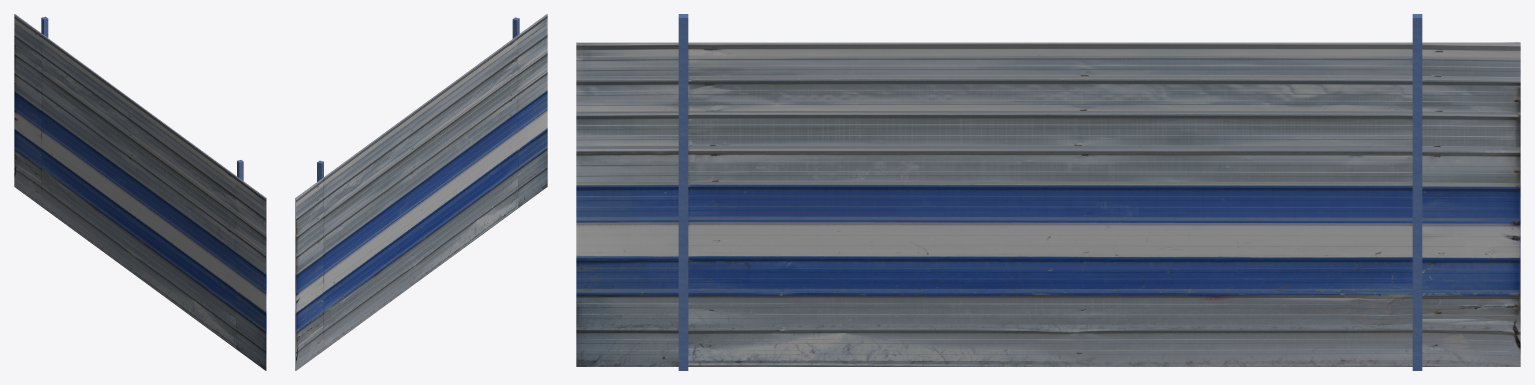
File: MetallFence02.FBX
The picture shows the model from 3 angles, left to right: view 1: azimuth 30°, elevation 25°; view 2: azimuth 150°, elevation 25°; view 3: azimuth 270°, elevation 25°; orthographic projection. The views are drawn at different scales.
Visible parts, largest first — view 1: MetallFence02, MetalFenceMetal01a; view 2: MetallFence02, MetalFenceMetal01a; view 3: MetallFence02, MetalFenceMetal01a.
Part boxes in pixels (x1,y1,x2,y2): MetallFence02: (14, 14, 266, 370); MetalFenceMetal01a: (41, 16, 243, 180); MetallFence02: (295, 14, 547, 370); MetalFenceMetal01a: (317, 17, 519, 181); MetallFence02: (576, 42, 1520, 366); MetalFenceMetal01a: (678, 14, 1422, 370).
Bounding box in the file's own units: 6.43 × 220 × 534.
